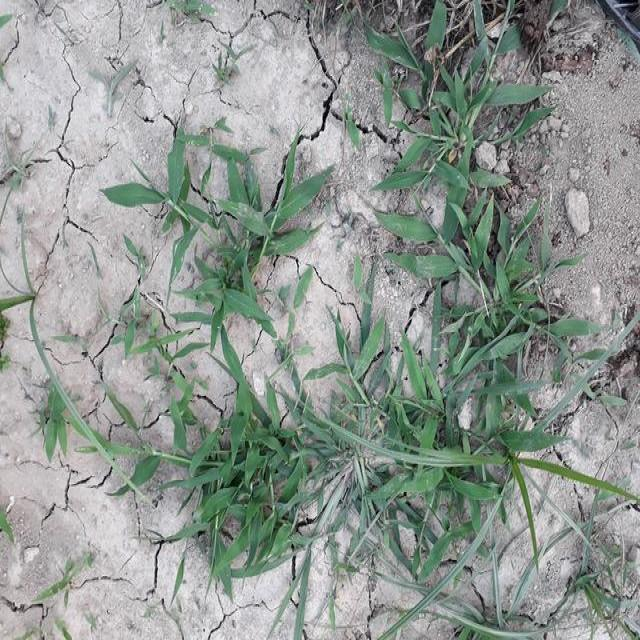weed: (349, 16, 560, 547), (189, 401, 337, 579)
